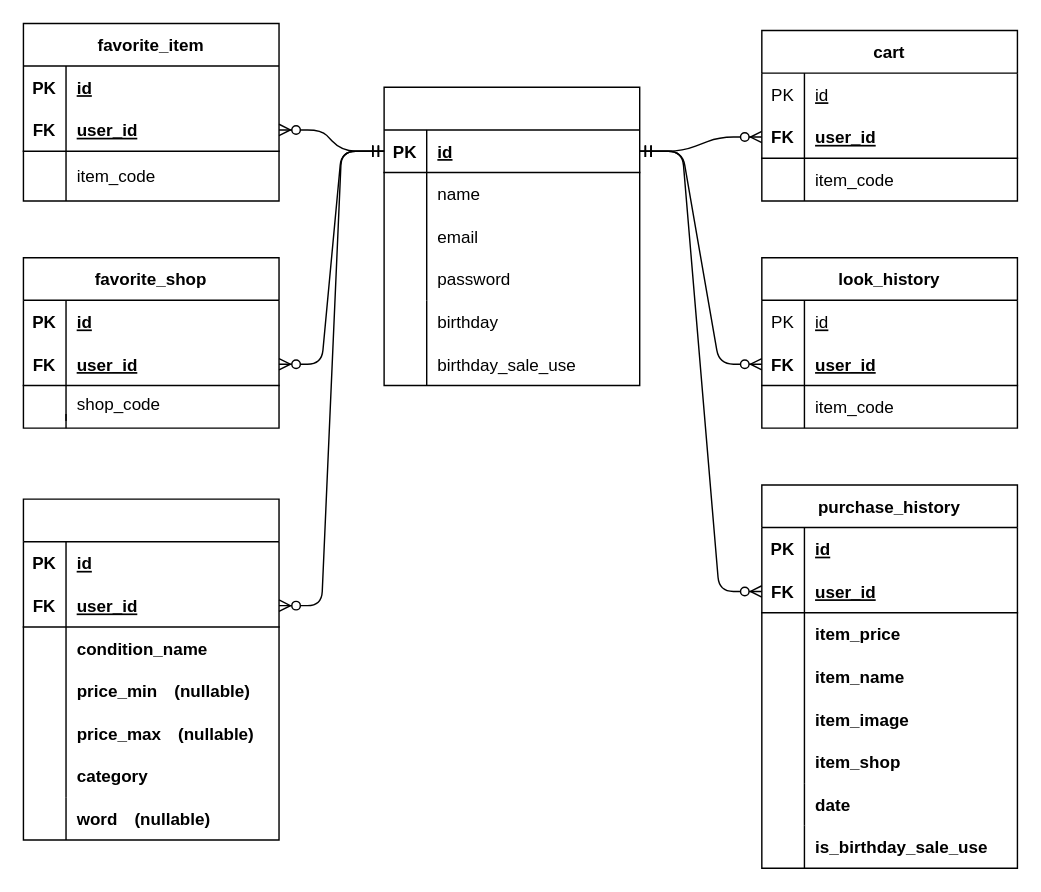
Some shapes in this 1041 by 892 pixel diagram are drawn without their labels. The shapes that lost their labels are listed below. From the top down, each one's box as (x1, y1, x2, y2) in pixels, then its label:
(383, 86, 640, 386): user
(22, 498, 279, 840): search_conditions
